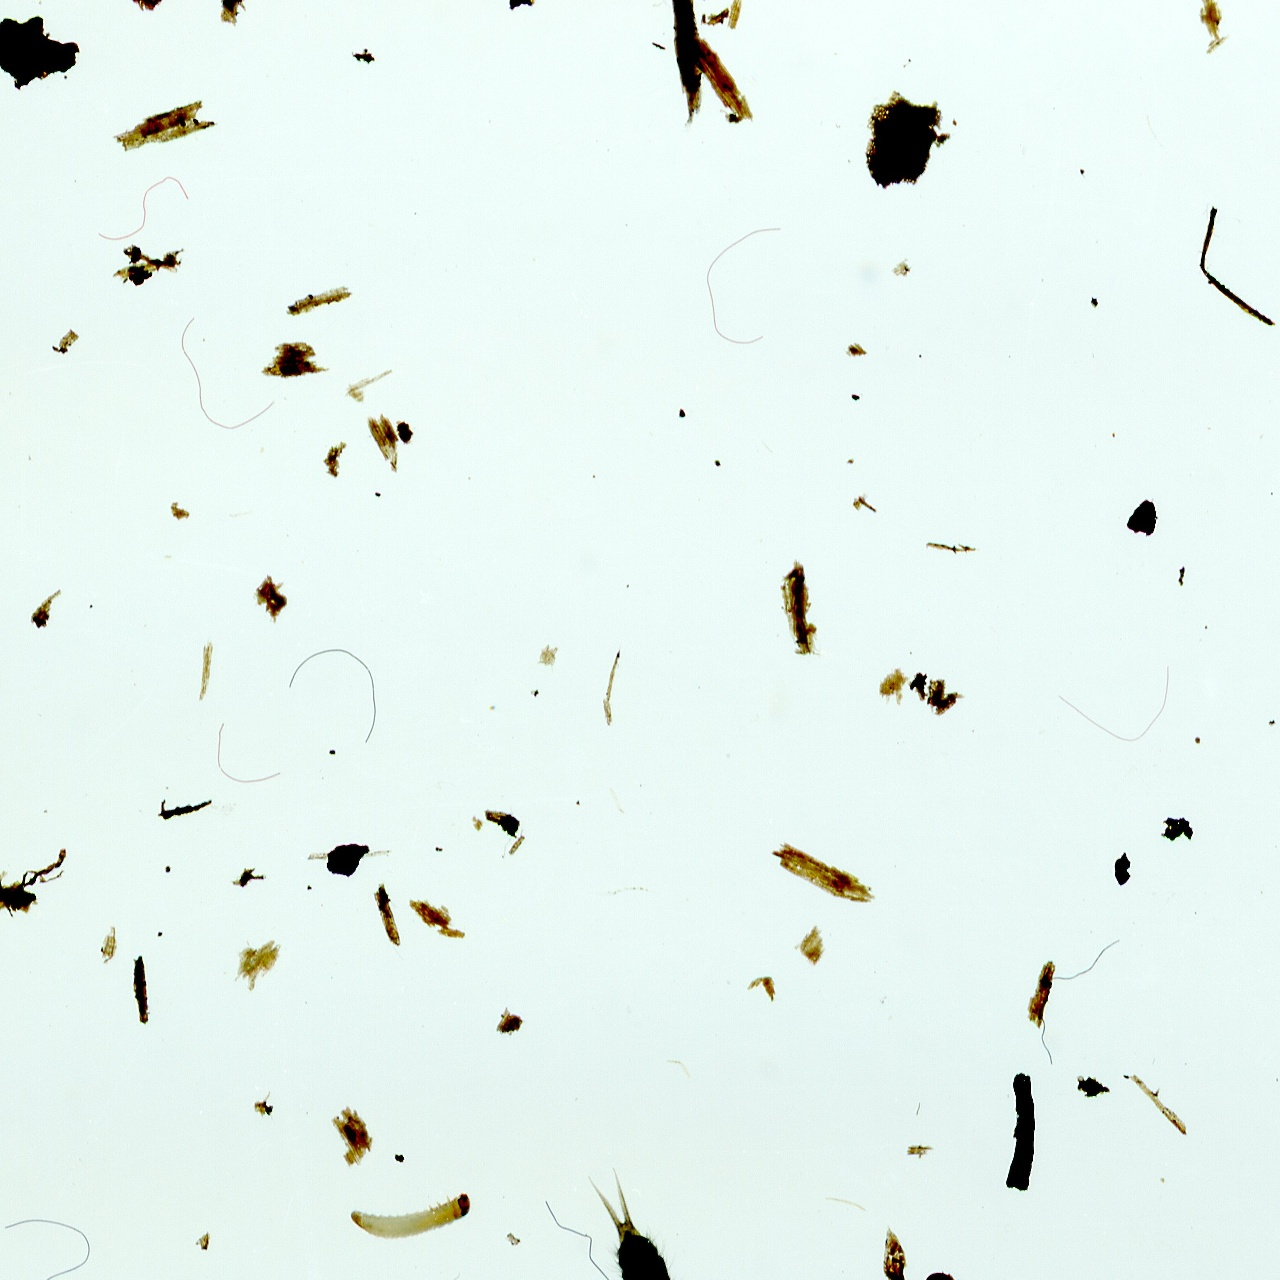arthropod: (535, 1143, 754, 1280), (347, 1192, 474, 1244), (922, 1268, 964, 1280)
